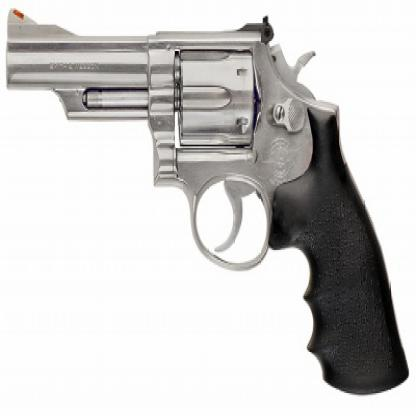Guns: (2, 4, 410, 396)
